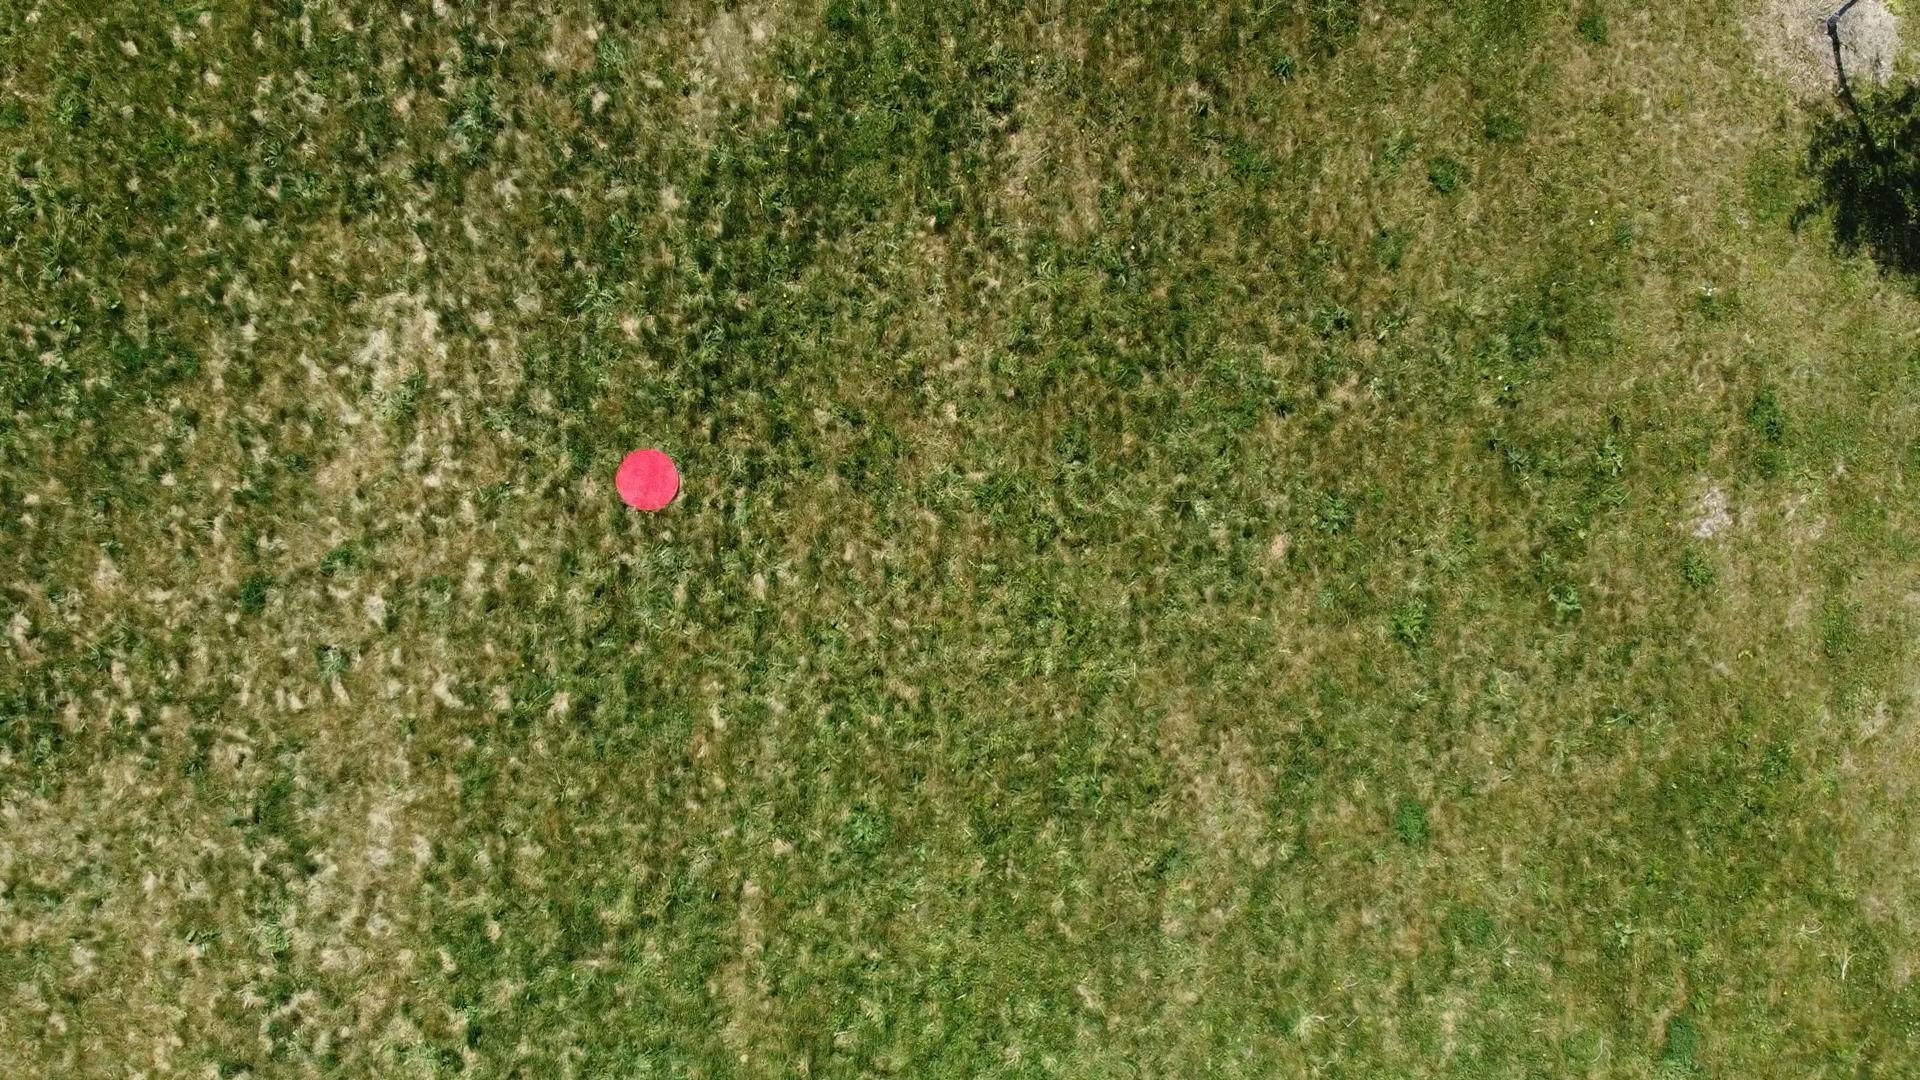Red: (613, 448, 682, 513)
